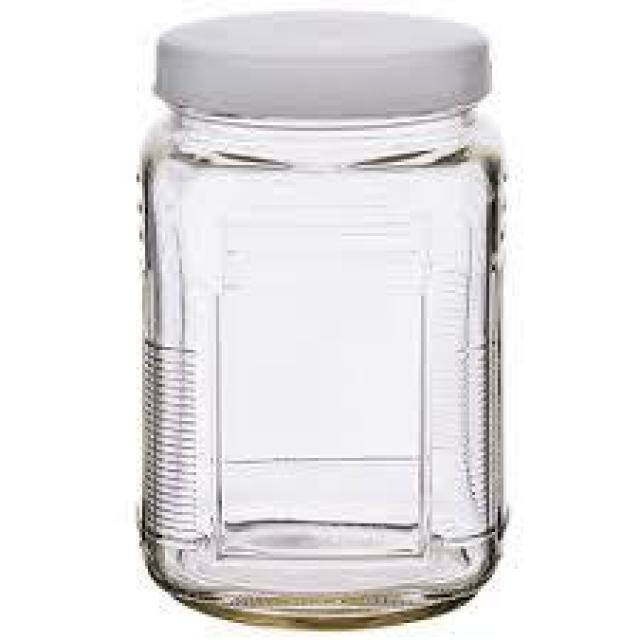Glass: (136, 10, 510, 632)
